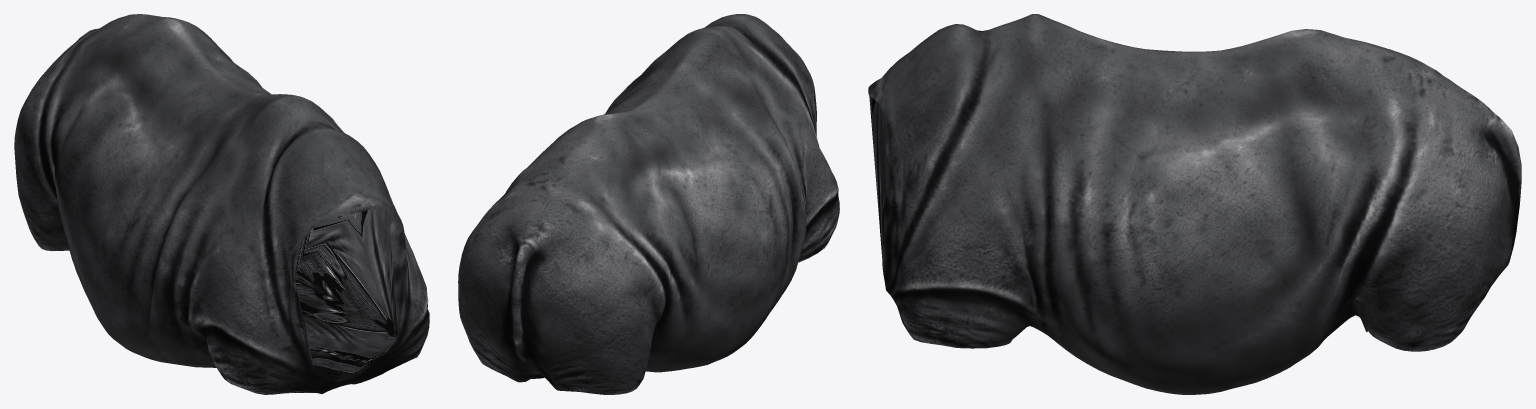
Rendered from BodyRhino.obj.
3 renders of one model, left to right at view 1: azimuth 30°, elevation 25°; view 2: azimuth 150°, elevation 25°; view 3: azimuth 270°, elevation 25°, orthographic. The views are drawn at different scales.
Visible parts, largest first — view 1: Rhino_Quad.003; view 2: Rhino_Quad.003; view 3: Rhino_Quad.003.
Boxes of the visible parts, left/top/right/bottom form: Rhino_Quad.003: left=14, top=14, right=429, bottom=394; Rhino_Quad.003: left=458, top=14, right=839, bottom=394; Rhino_Quad.003: left=868, top=14, right=1521, bottom=394.
Size of the model in its own units: 1.28 by 1.47 by 2.52.
1 material, 1 textured.
